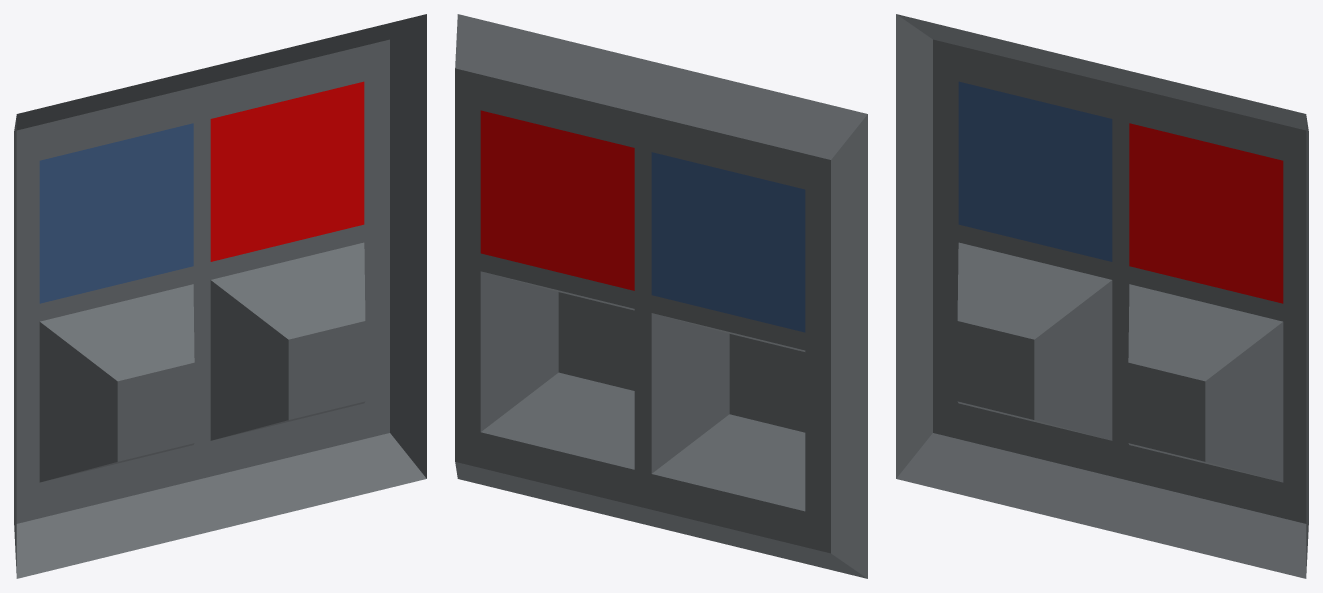
File: LightGreyMetalMechSmallWallPowerSocketOutlet1.fbx
3 renders of one model, left to right at view 1: azimuth 30°, elevation 25°; view 2: azimuth 150°, elevation 25°; view 3: azimuth 330°, elevation 25°, orthographic.
Visible parts, largest first — view 1: LightGreyMetalMechSmallWallPowerSocketOutlet1; view 2: LightGreyMetalMechSmallWallPowerSocketOutlet1; view 3: LightGreyMetalMechSmallWallPowerSocketOutlet1.
Part boxes in pixels (box(x1,y1,x2,y2)): LightGreyMetalMechSmallWallPowerSocketOutlet1: box(14, 14, 426, 578); LightGreyMetalMechSmallWallPowerSocketOutlet1: box(455, 14, 867, 578); LightGreyMetalMechSmallWallPowerSocketOutlet1: box(896, 14, 1308, 578).
Size of the model in its own units: 120 by 130 by 20.
